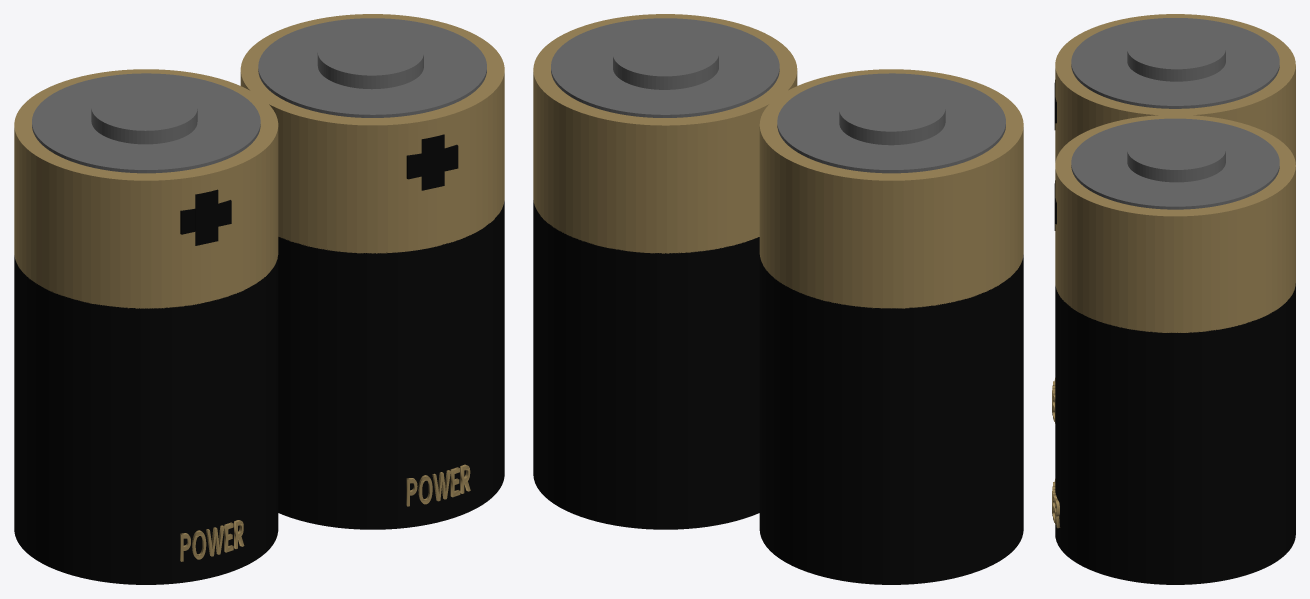
Rendered from Pila.fbx.
The picture shows the model from 3 angles, left to right: view 1: azimuth 30°, elevation 25°; view 2: azimuth 150°, elevation 25°; view 3: azimuth 270°, elevation 25°; orthographic projection. The views are drawn at different scales.
Visible parts, largest first — view 1: Texto; view 2: Texto; view 3: Texto.
Part boxes in pixels (left/top/right/bottom): Texto: left=14, top=14, right=504, bottom=584; Texto: left=533, top=14, right=1023, bottom=584; Texto: left=1052, top=14, right=1295, bottom=584.
Bounding box in the file's own units: 119 × 106 × 60.78.
